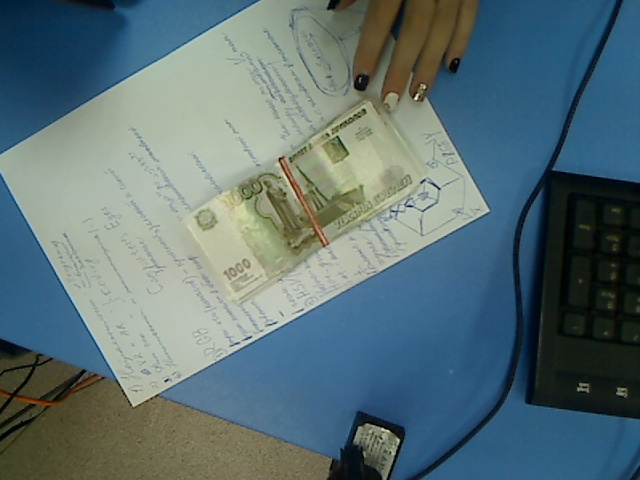banknotes: (179, 97, 432, 310)
